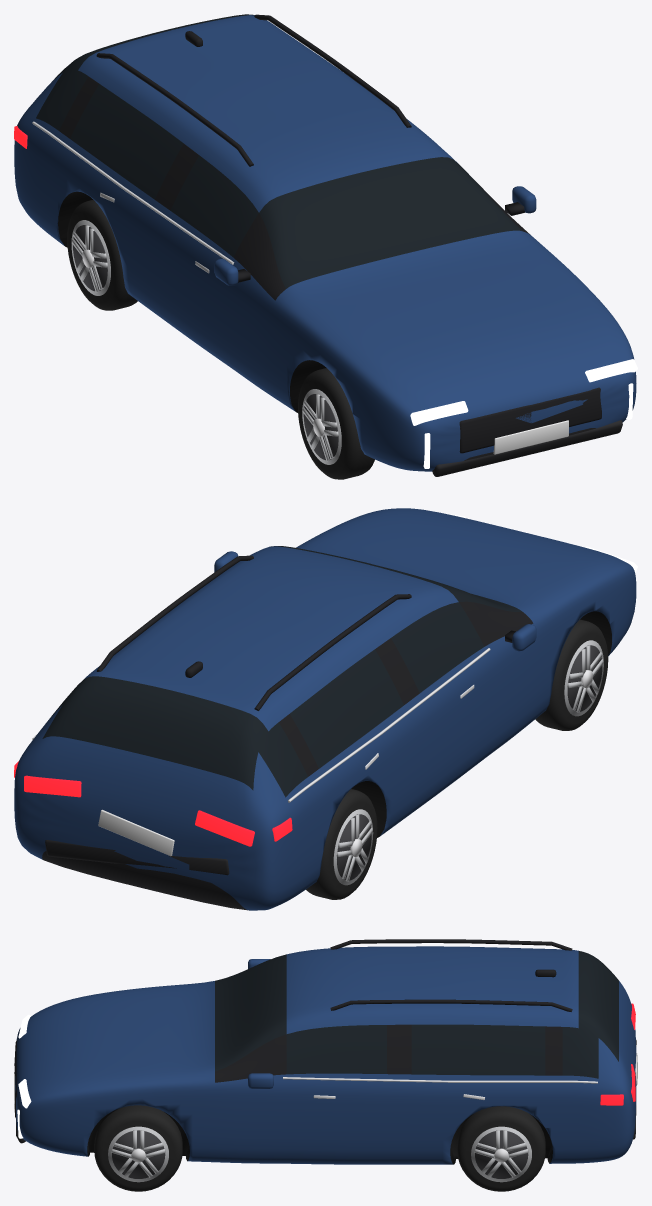
The model's file is peugeot_508_sw.glb.
3 renders of one model, top to bottom at view 1: azimuth 30°, elevation 25°; view 2: azimuth 150°, elevation 25°; view 3: azimuth 270°, elevation 25°, orthographic. The views are drawn at different scales.
Parts seen in each view (by area): view 1: Peugeot508SW_Body, Peugeot508SW_Details, Peugeot508SW_WheelFrontL, Peugeot508SW_WheelRearL, Peugeot508SW_RoofRail.001, Peugeot508SW_RoofRail, Peugeot508SW_WindowTrim.001; view 2: Peugeot508SW_Body, Peugeot508SW_Details, Peugeot508SW_WheelFrontL, Peugeot508SW_WheelRearL, Peugeot508SW_RoofRail.001, Peugeot508SW_RoofRail, Peugeot508SW_WindowTrim.001; view 3: Peugeot508SW_Body, Peugeot508SW_WheelFrontR, Peugeot508SW_WheelRearR, Peugeot508SW_Details, Peugeot508SW_RoofRail.001, Peugeot508SW_RoofRail, Peugeot508SW_WindowTrim.
Boxes of the visible parts, x1,y1,x2,y2 form: Peugeot508SW_Body: (14,14,636,471); Peugeot508SW_Details: (14,31,637,476); Peugeot508SW_WheelFrontL: (298,368,374,479); Peugeot508SW_WheelRearL: (67,199,137,310); Peugeot508SW_RoofRail.001: (96,53,253,166); Peugeot508SW_RoofRail: (254,14,411,127); Peugeot508SW_WindowTrim.001: (32,121,234,264); Peugeot508SW_Body: (14,508,636,910); Peugeot508SW_Details: (14,513,637,875); Peugeot508SW_WheelFrontL: (535,619,608,730); Peugeot508SW_WheelRearL: (306,789,377,899); Peugeot508SW_RoofRail.001: (254,594,411,710); Peugeot508SW_RoofRail: (96,555,253,671); Peugeot508SW_WindowTrim.001: (288,648,490,802); Peugeot508SW_Body: (15,946,636,1164); Peugeot508SW_WheelFrontR: (94,1105,182,1191); Peugeot508SW_WheelRearR: (457,1106,545,1191); Peugeot508SW_Details: (14,959,637,1143); Peugeot508SW_RoofRail.001: (330,939,572,950); Peugeot508SW_RoofRail: (330,999,572,1011); Peugeot508SW_WindowTrim: (283,1077,597,1083).
Size of the model in its own units: 2.16 by 1.48 by 4.8.
